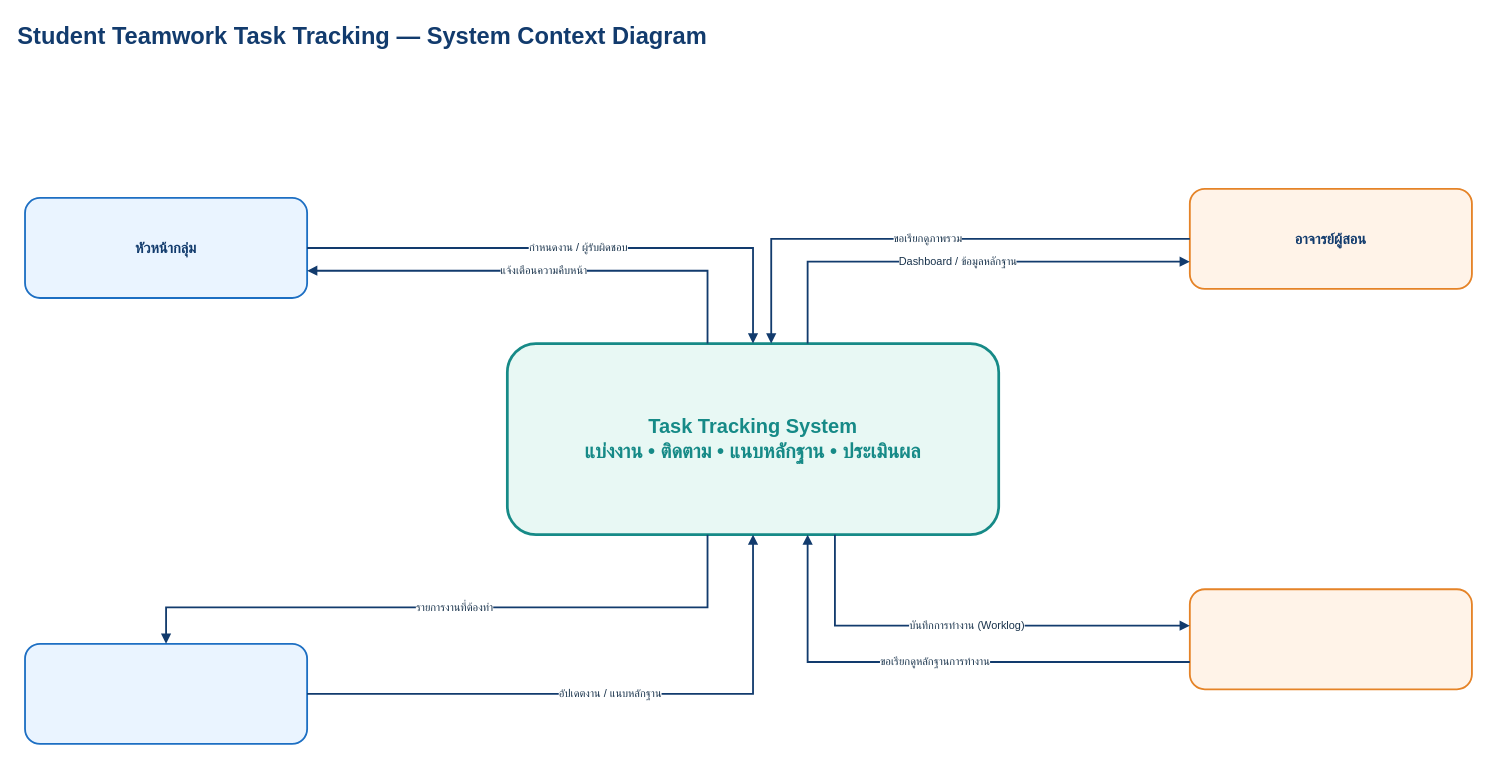
The diagram is 1488 pixels wide and 760 high, and some of its shapes have lost their labels. Each missing label, with the centre of its shape:
"สมาชิกกลุ่ม" belongs at point 166,693.
"เพื่อน Reviewer" belongs at point 1330,639.
